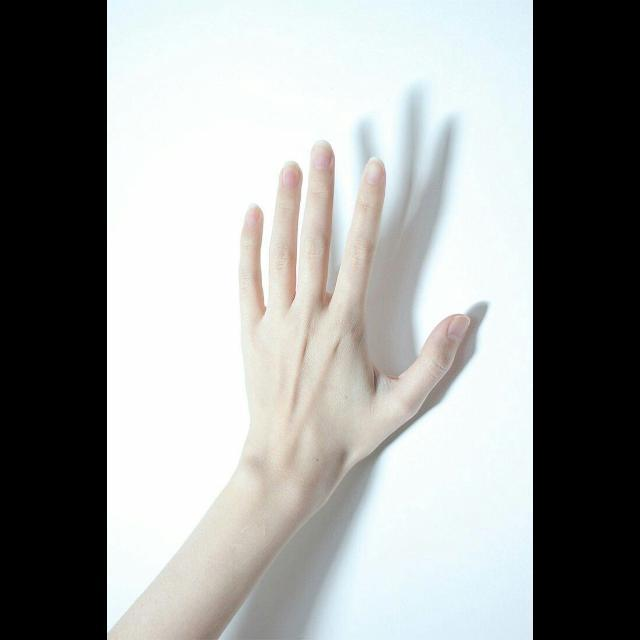bare_hand: (237, 137, 476, 465)
